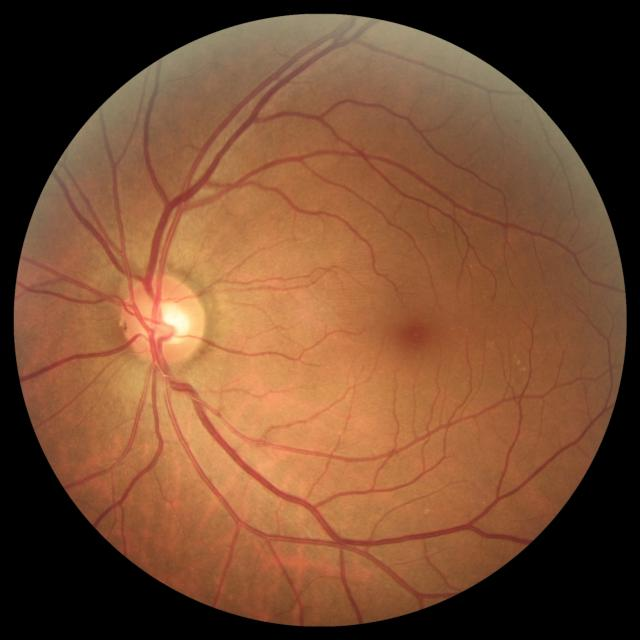OC: (148, 301, 188, 341)
OD: (122, 276, 204, 366)
